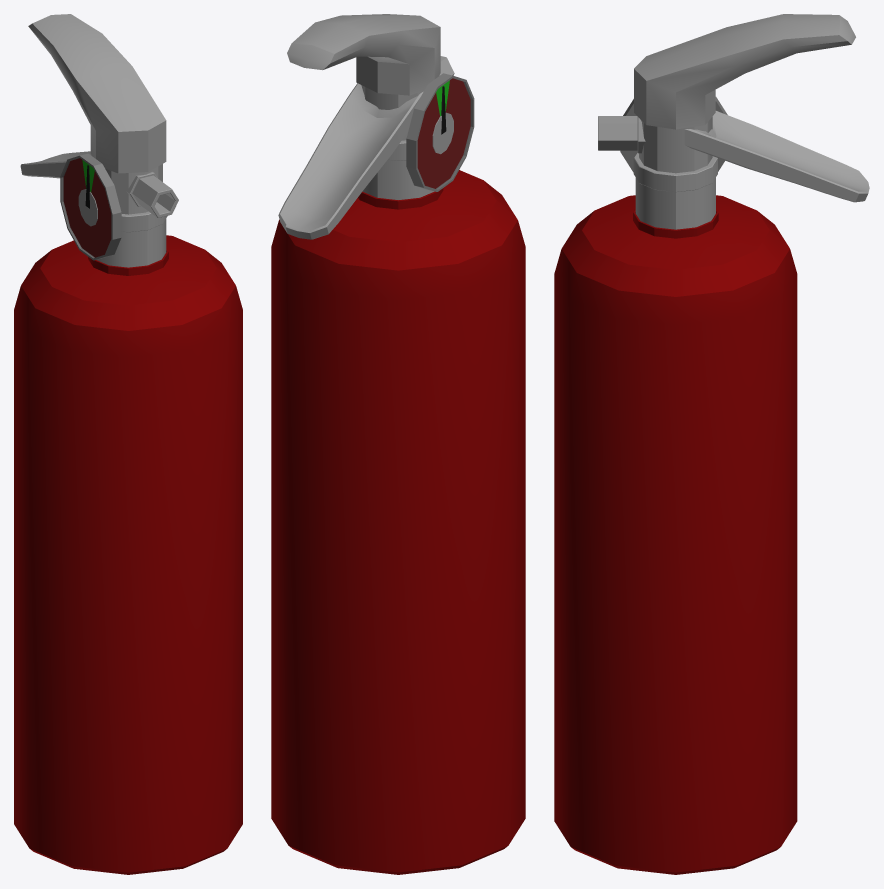
File: Fire_Extinguisher.fbx
The picture shows the model from 3 angles, left to right: view 1: azimuth 30°, elevation 25°; view 2: azimuth 150°, elevation 25°; view 3: azimuth 270°, elevation 25°; orthographic projection. The views are drawn at different scales.
Parts seen in each view (by area): view 1: Fire Extinguisher; view 2: Fire Extinguisher; view 3: Fire Extinguisher.
Boxes of the visible parts, x1,y1,x2,y2 form: Fire Extinguisher: (14,14,242,874); Fire Extinguisher: (271,14,525,874); Fire Extinguisher: (554,14,869,874).
Bounding box in the file's own units: 0.2827 × 0.3668 × 1.03.
